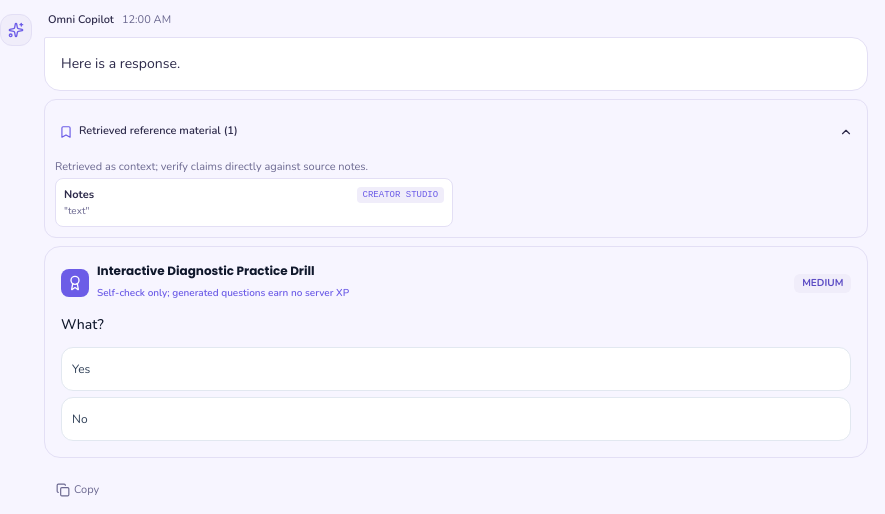
Test: Copilot message evidence and recovery › labels retrieved context as unverified and exposes expanded state
Click the button "Retrieved reference material (1)" at (153, 131), box [55, 110, 857, 154]
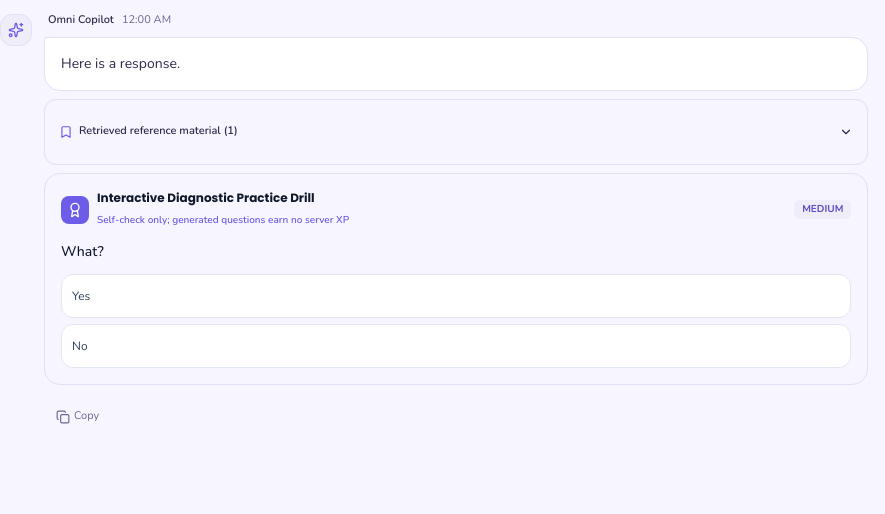
expect the text "generated questions earn no server XP" is shown: met, box [97, 212, 349, 226]
expect the button "Retrieved reference material (1)" is collapsed: met, box [55, 110, 857, 154]
